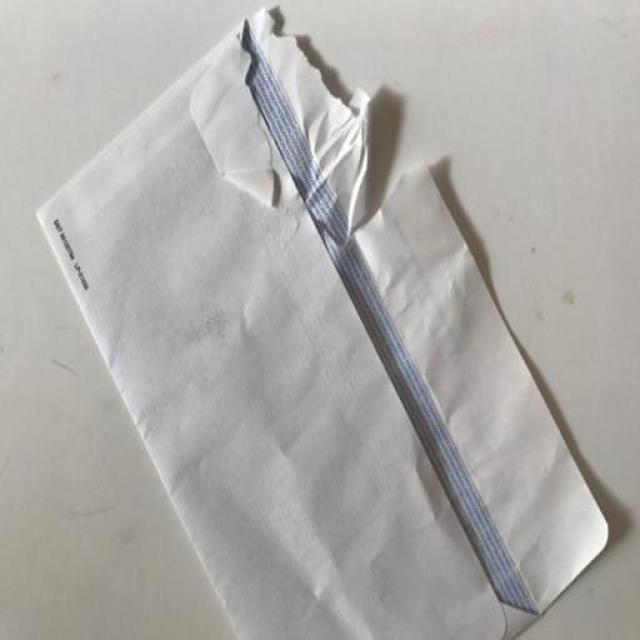paper: (27, 4, 621, 640)
